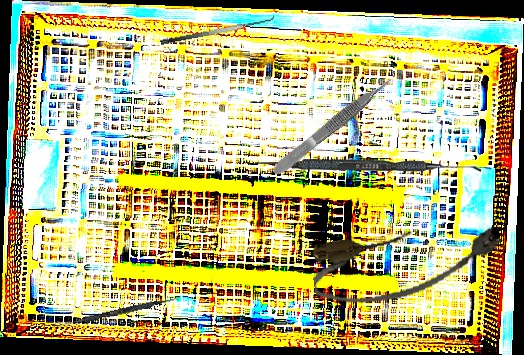Cannula: (307, 215, 508, 312)
Spatula Surgical: (53, 293, 179, 332), (158, 10, 276, 46), (255, 159, 481, 172)
Tissue Forceps: (269, 74, 396, 179)
